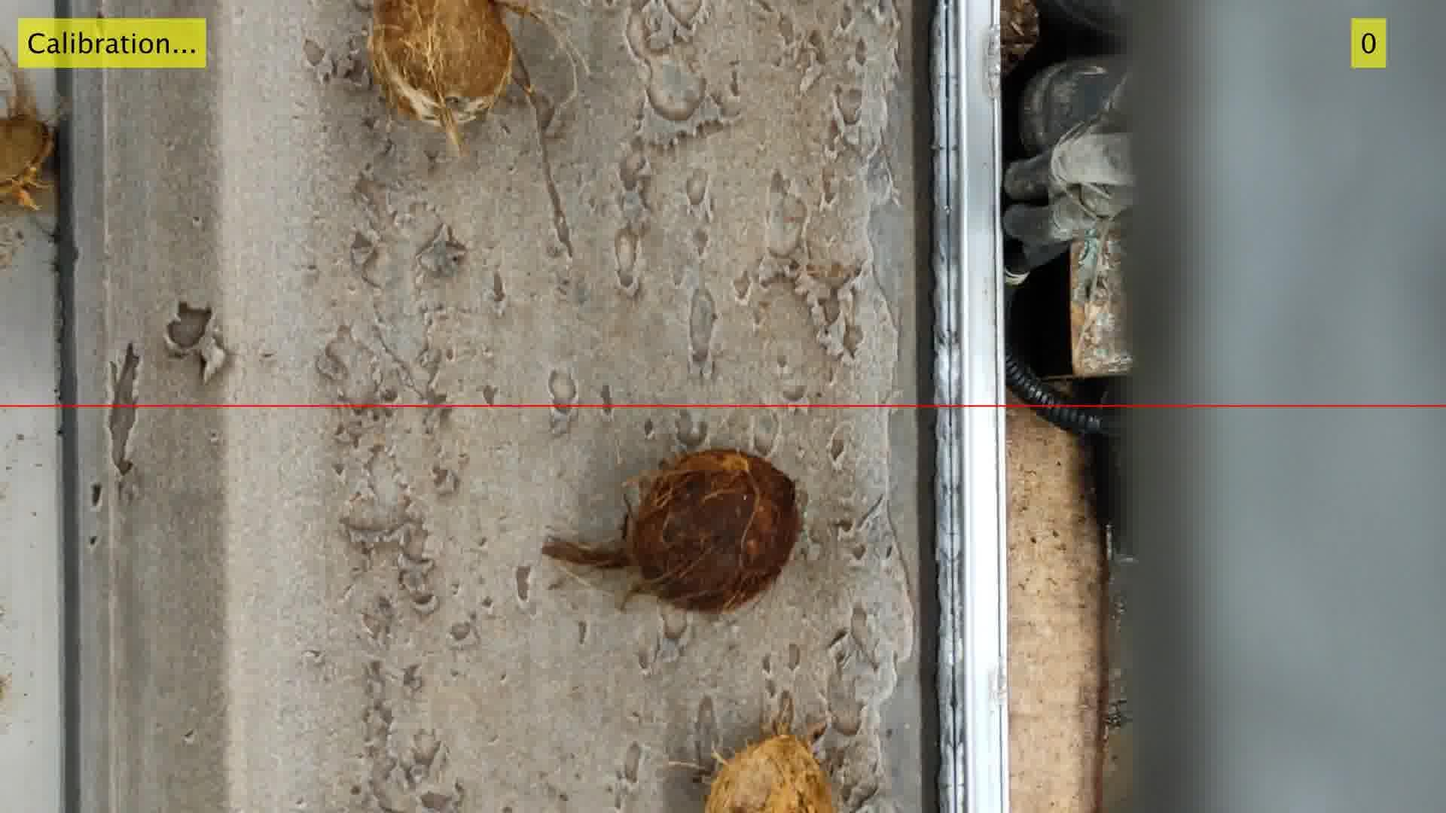Coconut: (542, 448, 801, 612), (368, 0, 579, 151), (698, 691, 836, 812), (0, 47, 54, 210)
